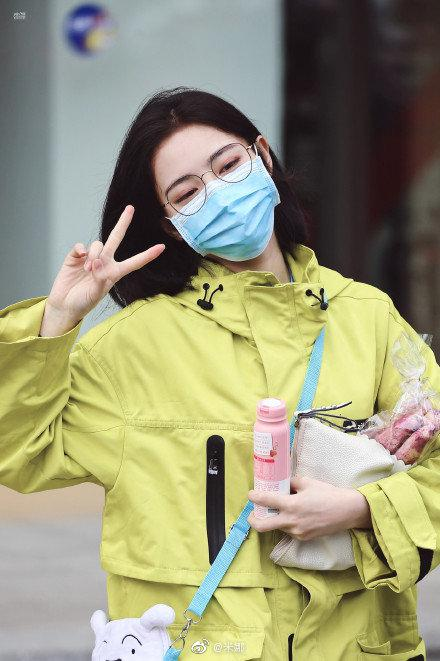OK: (163, 140, 281, 261)
